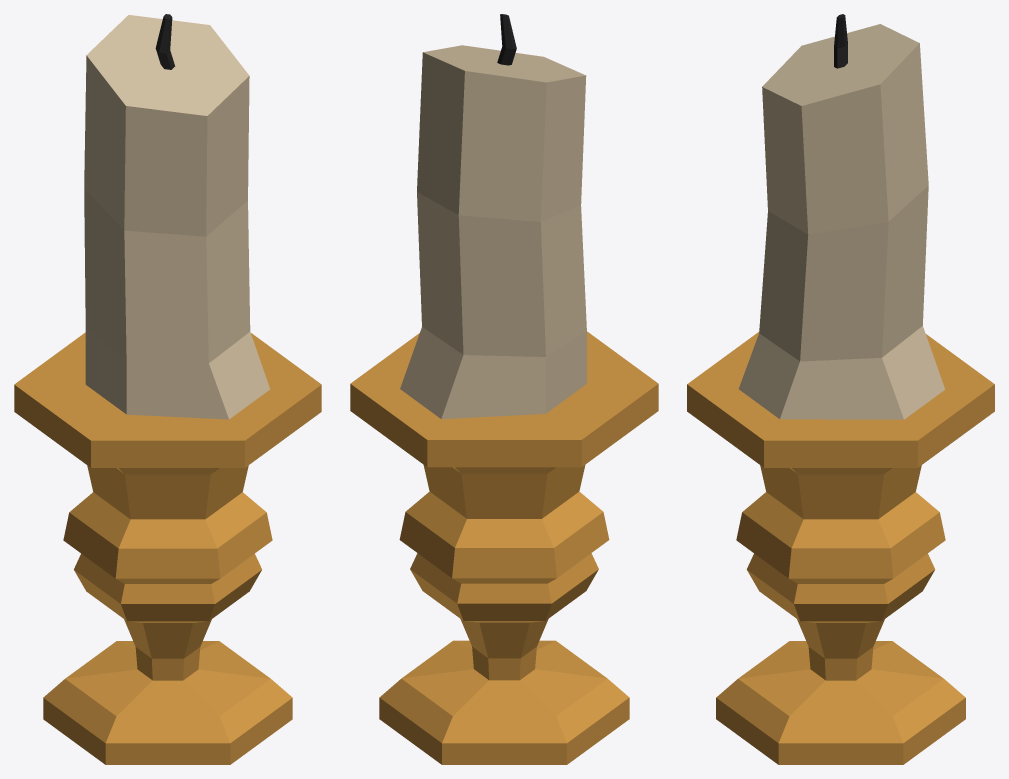
The model's file is candle.glb.
3 views of the same model, side by side, from view 1: azimuth 30°, elevation 25°; view 2: azimuth 150°, elevation 25°; view 3: azimuth 270°, elevation 25° (orthographic).
Visible parts, largest first — view 1: Candle; view 2: Candle; view 3: Candle.
Boxes of the visible parts, bbox=[...] form: Candle: bbox=[14, 14, 321, 764]; Candle: bbox=[350, 14, 658, 764]; Candle: bbox=[687, 14, 994, 764].
Size of the model in its own units: 0.2651 by 0.7728 by 0.3061.
